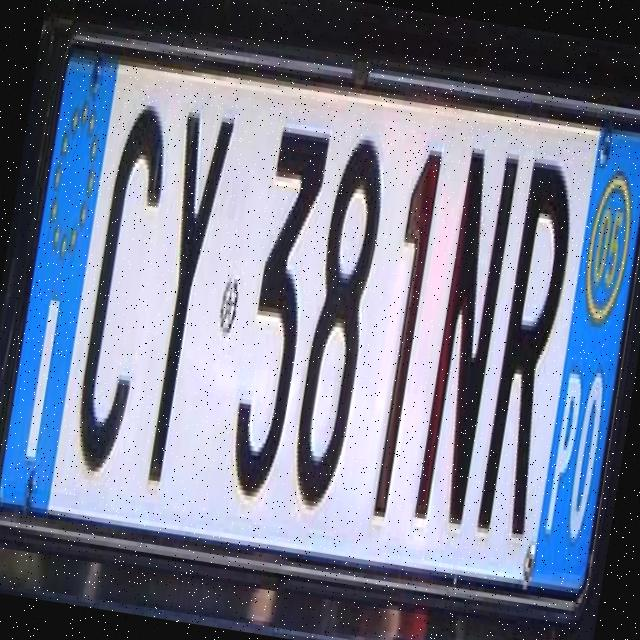EU: (0, 32, 640, 605)
Italie: (0, 57, 118, 522)
